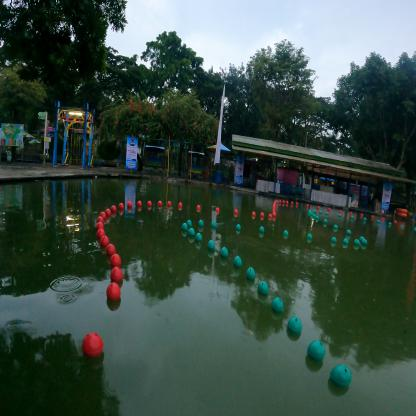green_buoy: (330, 360, 352, 379), (306, 338, 326, 355), (286, 312, 303, 330), (256, 279, 270, 293), (270, 295, 285, 308), (244, 266, 258, 277), (232, 255, 243, 266), (220, 245, 230, 256), (207, 238, 215, 248), (188, 227, 196, 235), (306, 232, 314, 240), (358, 235, 366, 243), (234, 223, 242, 230), (282, 229, 290, 236), (195, 232, 202, 240), (330, 236, 338, 243), (361, 238, 368, 246), (353, 238, 360, 246), (210, 219, 216, 228), (186, 219, 193, 226), (258, 226, 265, 233), (342, 237, 349, 244), (181, 223, 188, 229), (346, 228, 352, 235), (198, 219, 204, 225), (323, 218, 328, 224), (333, 224, 338, 230), (315, 215, 320, 220), (325, 211, 329, 215), (363, 217, 367, 221), (376, 219, 380, 223), (388, 222, 392, 226), (338, 213, 341, 217), (351, 215, 354, 219), (400, 224, 403, 228), (319, 210, 322, 213), (414, 227, 415, 233)
red_buoy: (80, 330, 104, 355), (106, 281, 121, 299), (110, 266, 123, 281), (110, 253, 122, 267), (105, 244, 116, 255), (100, 235, 110, 247), (97, 228, 105, 237), (99, 211, 107, 219), (96, 216, 104, 224), (96, 222, 104, 230), (110, 205, 117, 212), (105, 208, 111, 216), (127, 200, 132, 208), (118, 203, 124, 209), (137, 200, 142, 206), (147, 200, 152, 206), (167, 200, 172, 206), (196, 204, 201, 210), (233, 208, 238, 214), (252, 211, 256, 218), (178, 202, 183, 207), (215, 207, 220, 212), (158, 200, 162, 206), (260, 212, 264, 218), (272, 211, 276, 216), (268, 213, 272, 218), (338, 209, 342, 213), (394, 220, 398, 224), (290, 201, 294, 204), (306, 203, 309, 207), (317, 205, 320, 209), (272, 209, 276, 212), (360, 213, 363, 217), (371, 215, 374, 219), (381, 217, 384, 221), (286, 200, 288, 204), (328, 208, 330, 212), (350, 212, 352, 216), (279, 200, 281, 203), (282, 200, 284, 203), (296, 202, 298, 205)
